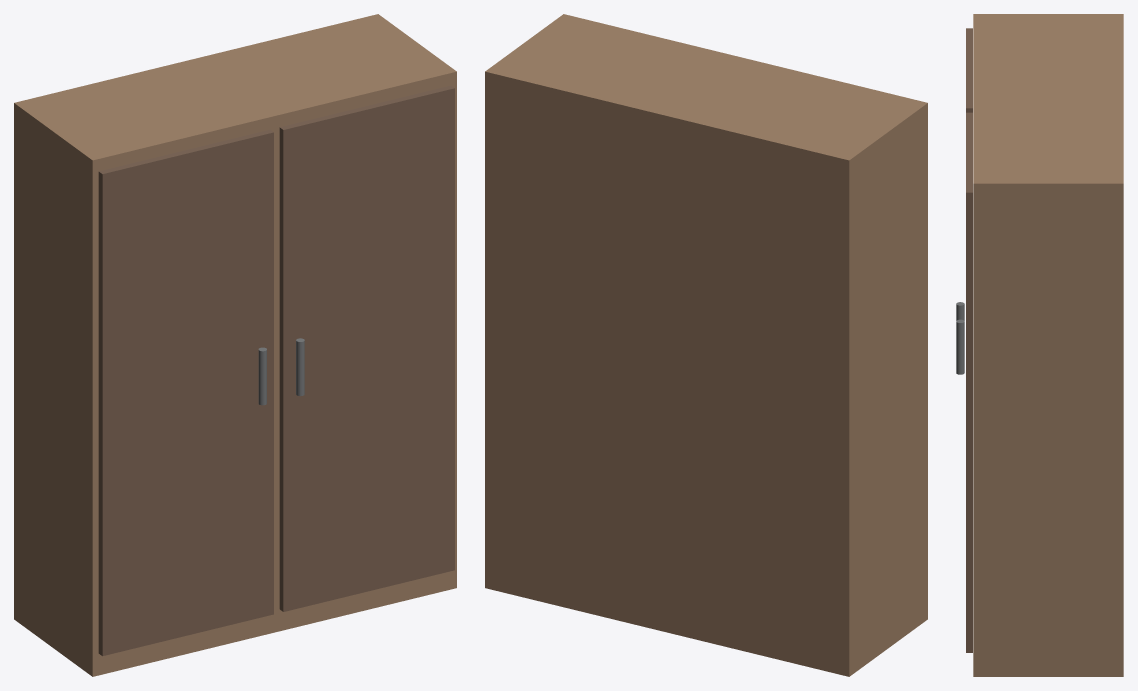
The model's file is wardrobe.glb.
The picture shows the model from 3 angles, left to right: view 1: azimuth 30°, elevation 25°; view 2: azimuth 150°, elevation 25°; view 3: azimuth 270°, elevation 25°; orthographic projection. The views are drawn at different scales.
Parts seen in each view (by area): view 1: Body, Door_-1, Door_1; view 2: Body; view 3: Body, Door_1, Door_-1, Handle_1.
Part boxes in pixels (x1,y1,x2,y2): Body: [14, 14, 456, 676]; Door_-1: [98, 129, 273, 656]; Door_1: [279, 85, 454, 611]; Body: [485, 14, 927, 676]; Body: [973, 14, 1123, 676]; Door_1: [966, 112, 972, 652]; Door_-1: [966, 28, 972, 112]; Handle_1: [956, 319, 964, 374].
Size of the model in its own units: 1.55 by 2.1 by 0.646.
